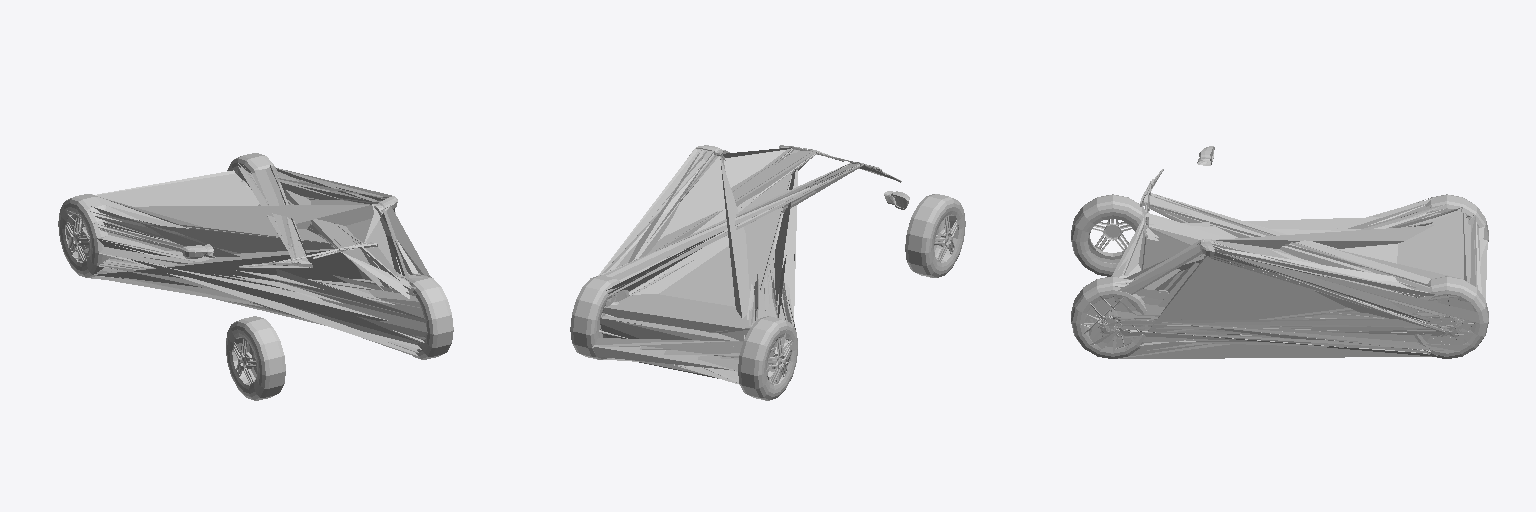
Rendered from 2003eclipse.obj.
3 renders of one model, left to right at view 1: azimuth 30°, elevation 25°; view 2: azimuth 150°, elevation 25°; view 3: azimuth 270°, elevation 25°, orthographic.
Parts seen in each view (by area): view 1: 2003eclipse, wheels_n_acc; view 2: 2003eclipse, wheels_n_acc; view 3: 2003eclipse, wheels_n_acc.
Boxes of the visible parts, x1=… form: 2003eclipse: x1=65, y1=163, x2=431, y2=355; wheels_n_acc: x1=58, y1=153, x2=453, y2=400; 2003eclipse: x1=575, y1=145, x2=899, y2=384; wheels_n_acc: x1=570, y1=145, x2=965, y2=400; 2003eclipse: x1=1081, y1=170, x2=1487, y2=358; wheels_n_acc: x1=1071, y1=146, x2=1488, y2=358.
Bounding box in the file's own units: 29.8 × 15.68 × 50.48.